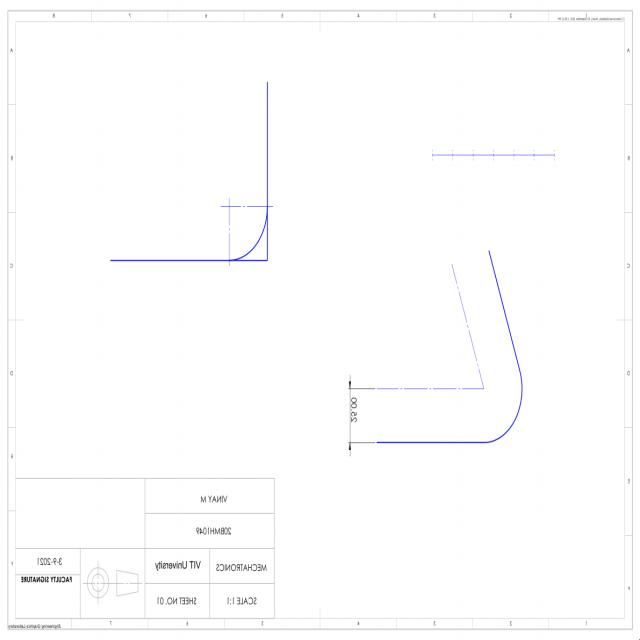Drawings: (338, 242, 534, 466), (104, 74, 279, 272)
